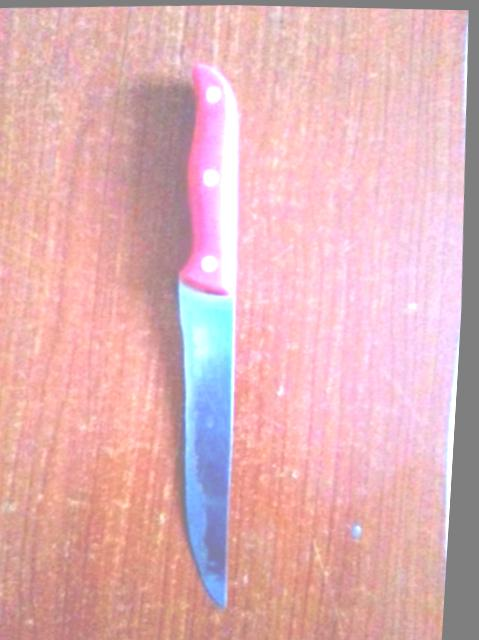Knife: (179, 64, 238, 607)
